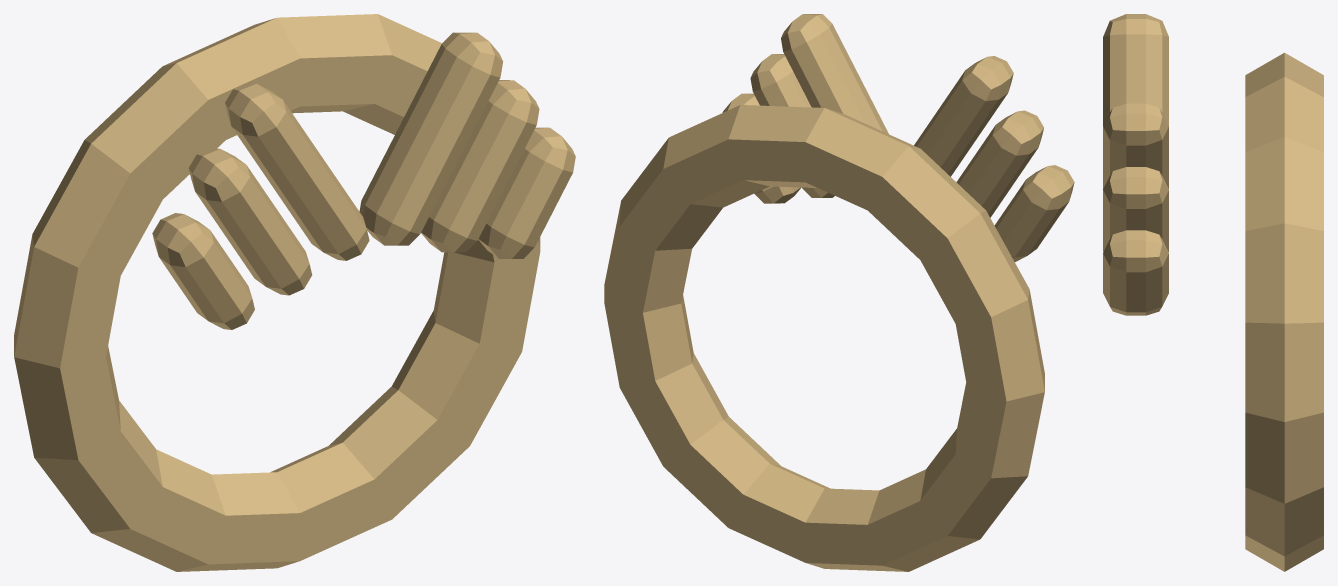
File: arm_lance_ring.glb
3 views of the same model, side by side, from view 1: azimuth 30°, elevation 25°; view 2: azimuth 150°, elevation 25°; view 3: azimuth 270°, elevation 25° (orthographic). The views are drawn at different scales.
Parts seen in each view (by area): view 1: arm_lance_ring; view 2: arm_lance_ring; view 3: arm_lance_ring.
Part boxes in pixels (x1,y1,x2,y2): arm_lance_ring: (14,14,575,571); arm_lance_ring: (604,14,1074,571); arm_lance_ring: (1103,14,1323,571).
Bounding box in the file's own units: 0.63 × 0.6507 × 0.2676.
